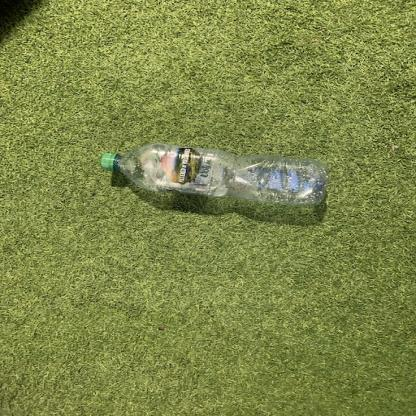trash: (98, 143, 332, 207)
